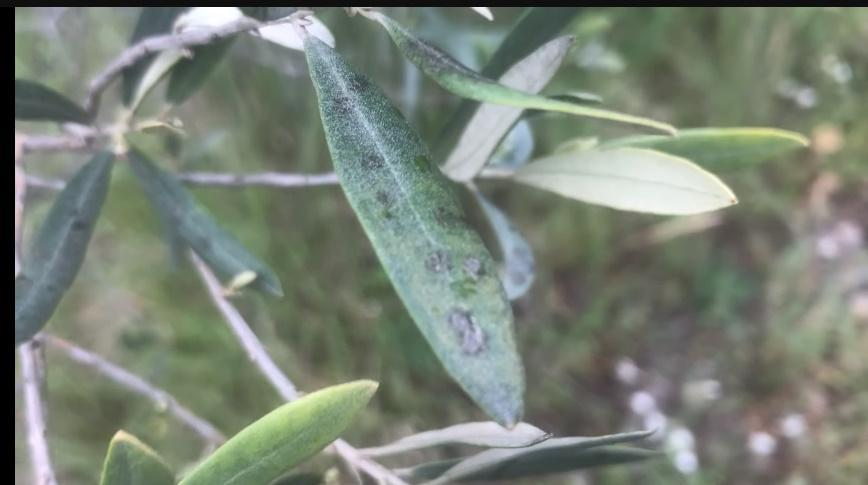OlivePeacockSpot: (298, 39, 529, 430), (362, 13, 672, 137), (128, 149, 288, 302), (470, 193, 534, 300)
